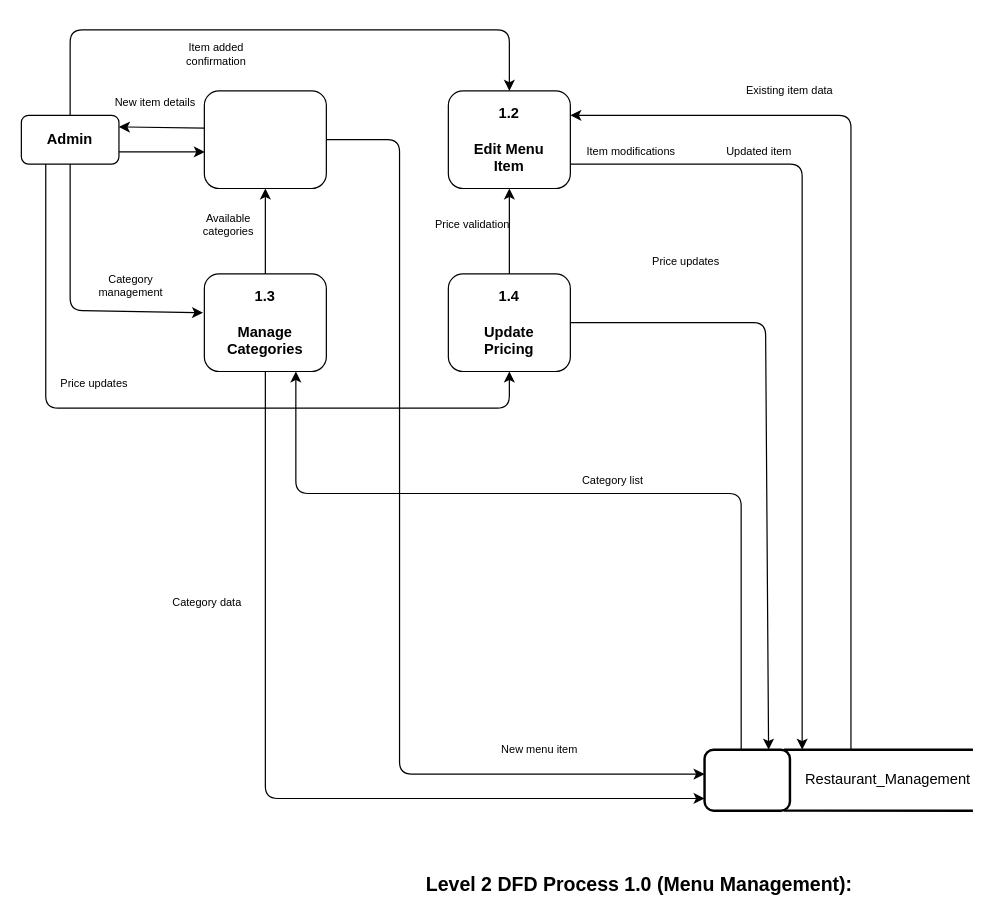
Image size: 1007x924. Some labels were removed from this diagram. Each missing label, with the centre of its shape:
"1.1 Add Menu Item" goes at [264,139].
"DT" goes at [747,779].
